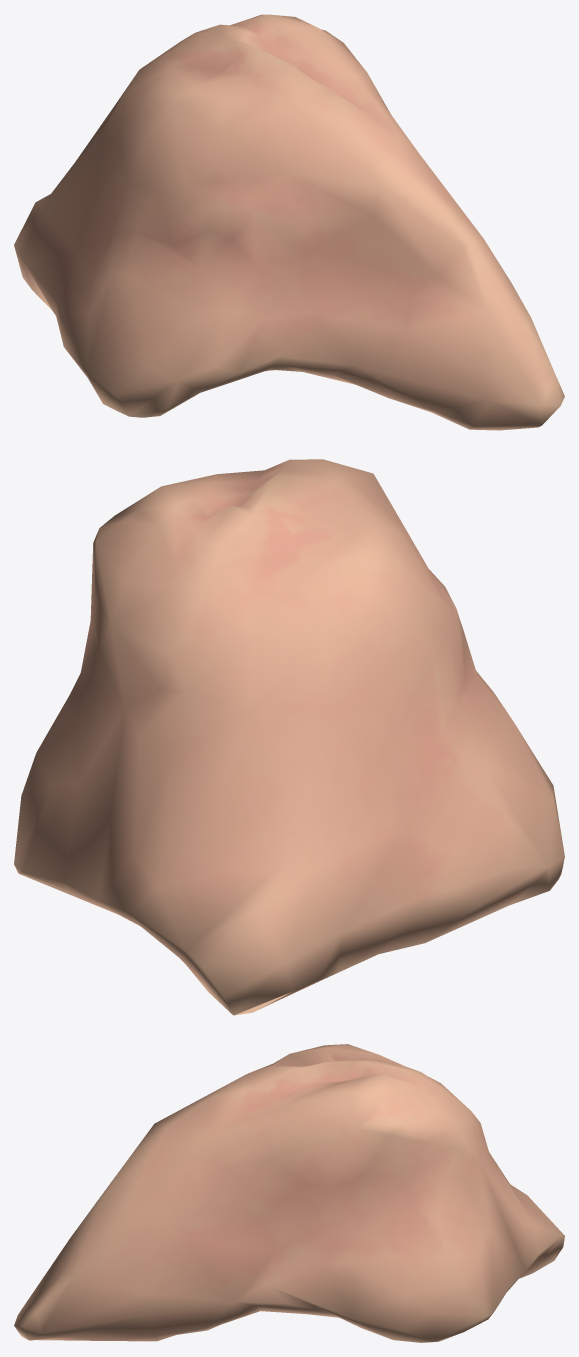
Rendered from ROK0110007.fbx.
3 renders of one model, top to bottom at view 1: azimuth 30°, elevation 25°; view 2: azimuth 150°, elevation 25°; view 3: azimuth 270°, elevation 25°, orthographic. The views are drawn at different scales.
Parts seen in each view (by area): view 1: smROK0110007; view 2: smROK0110007; view 3: smROK0110007.
Part boxes in pixels (x1,y1,x2,y2): smROK0110007: (14,14,564,430); smROK0110007: (14,459,564,1015); smROK0110007: (14,1044,564,1342).
Bounding box in the file's own units: 228 × 188 × 374.
1 material, 1 textured.
